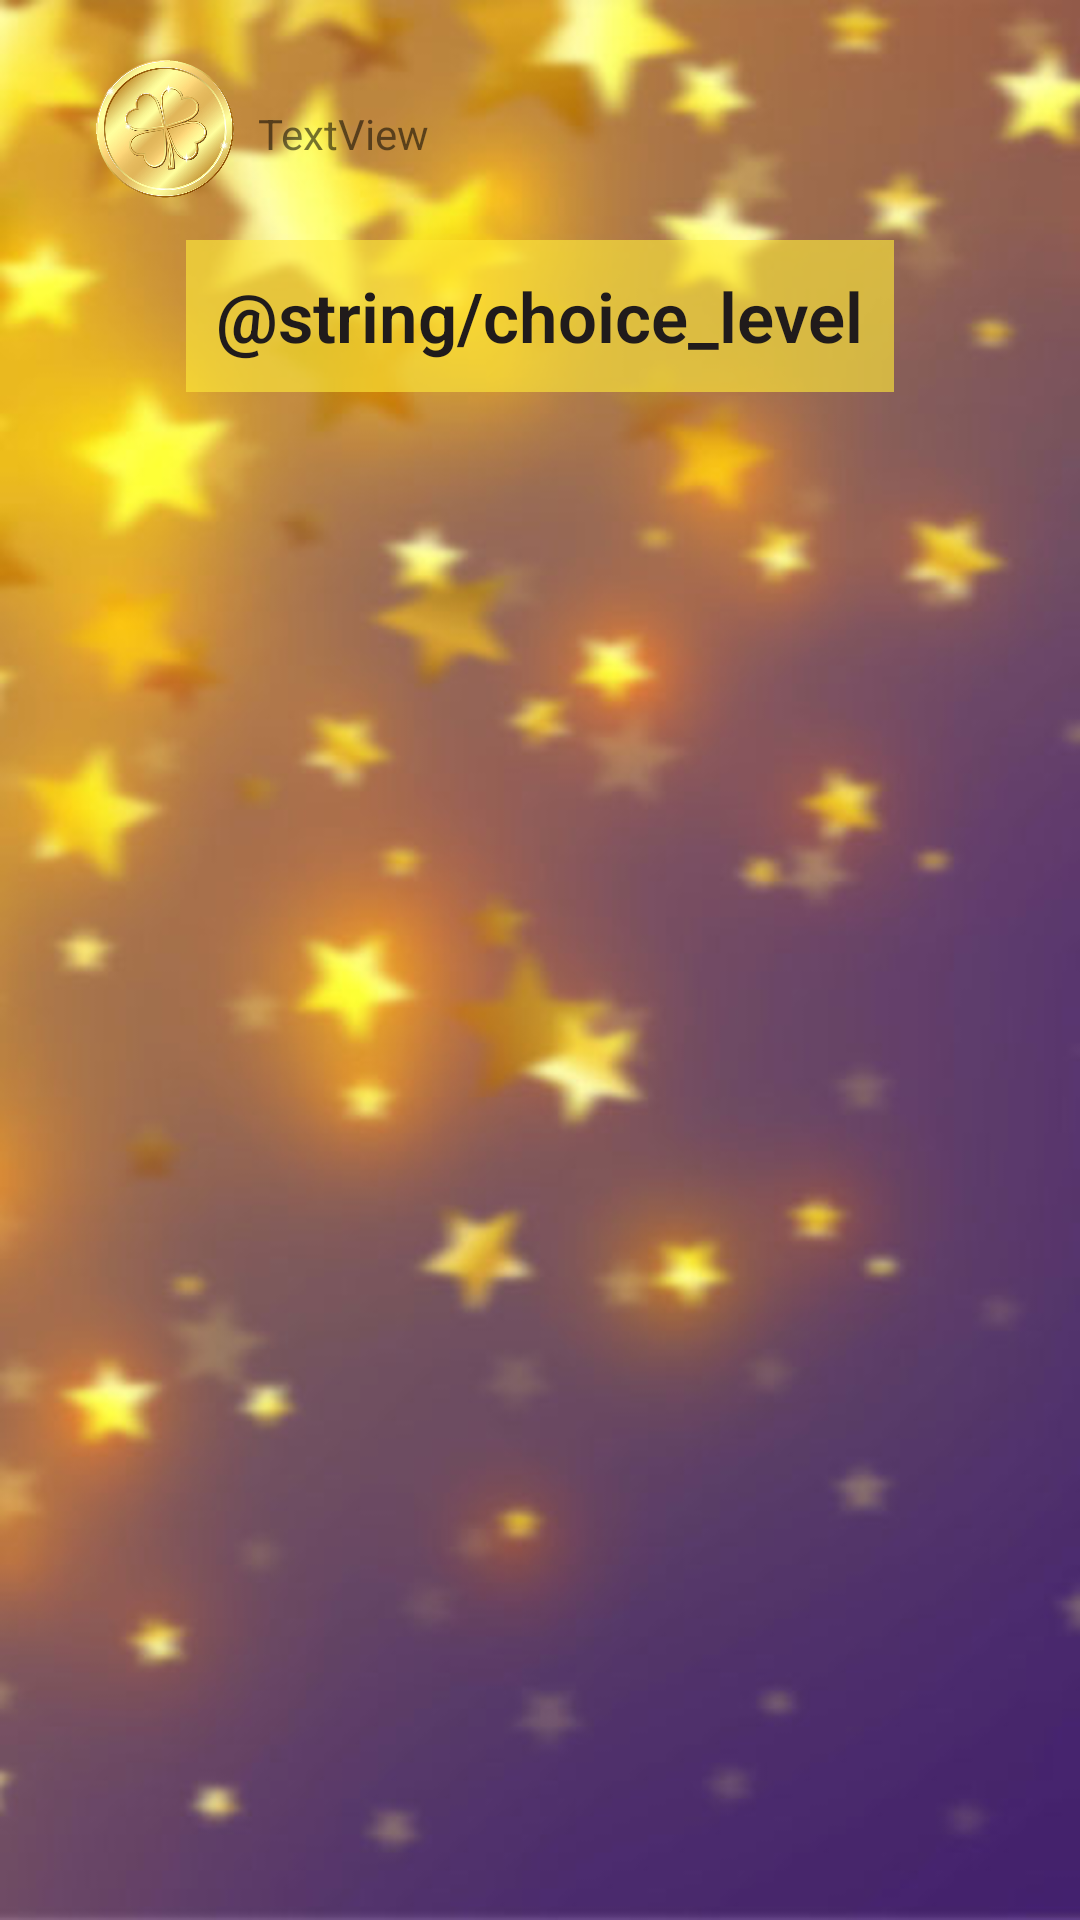

Screen size 1080×1920. Icon name, then its center in pixels as (x,y):
money: (165,135)
